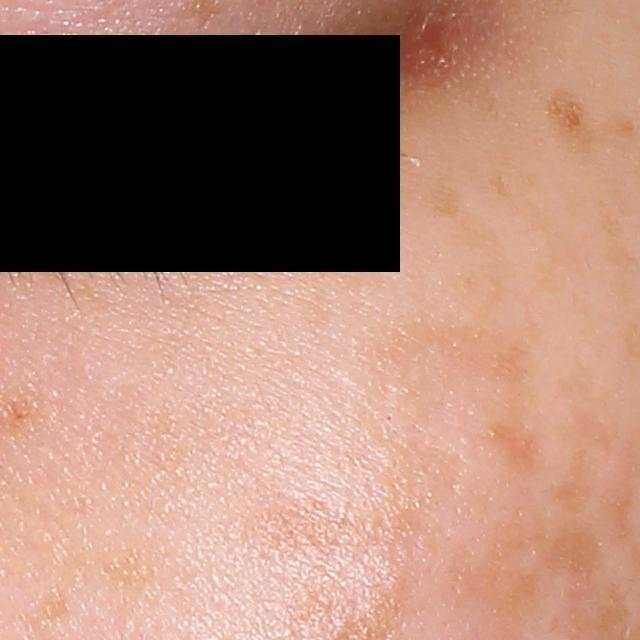melasma: (442, 518, 611, 618), (382, 307, 547, 396), (482, 417, 551, 482), (550, 441, 595, 519), (546, 86, 595, 151), (24, 584, 70, 620), (421, 184, 463, 220), (607, 113, 638, 144)
